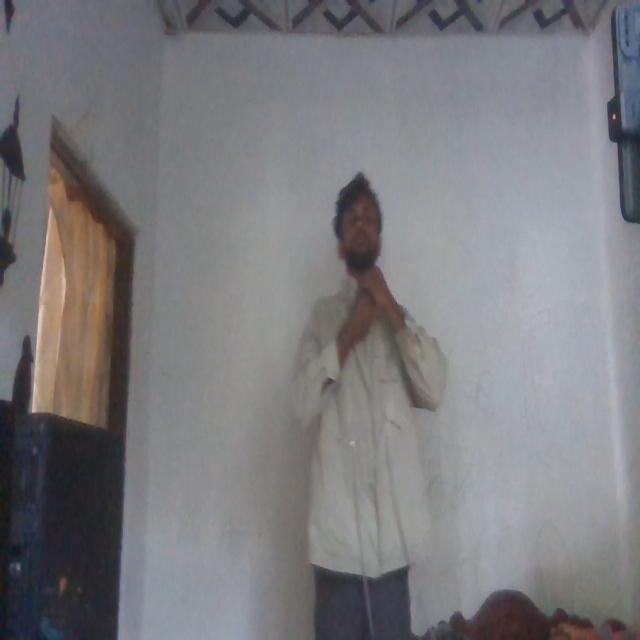Jacket_Wearer: (272, 269, 450, 545)
Person: (285, 173, 441, 640)
